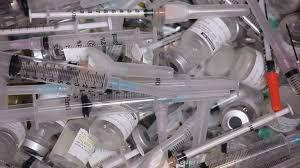Iv_Bottle: (166, 18, 240, 72), (204, 46, 265, 89), (49, 118, 95, 167), (89, 106, 138, 149), (229, 47, 265, 89), (22, 121, 64, 156), (0, 122, 25, 161), (266, 0, 299, 14)
Syringe: (0, 52, 237, 97), (170, 105, 292, 165), (0, 92, 223, 121), (1, 53, 153, 93), (247, 0, 299, 93), (29, 2, 248, 23), (0, 29, 155, 50), (205, 134, 299, 167), (0, 22, 108, 35), (131, 32, 182, 59), (3, 84, 71, 94), (240, 12, 261, 34)
